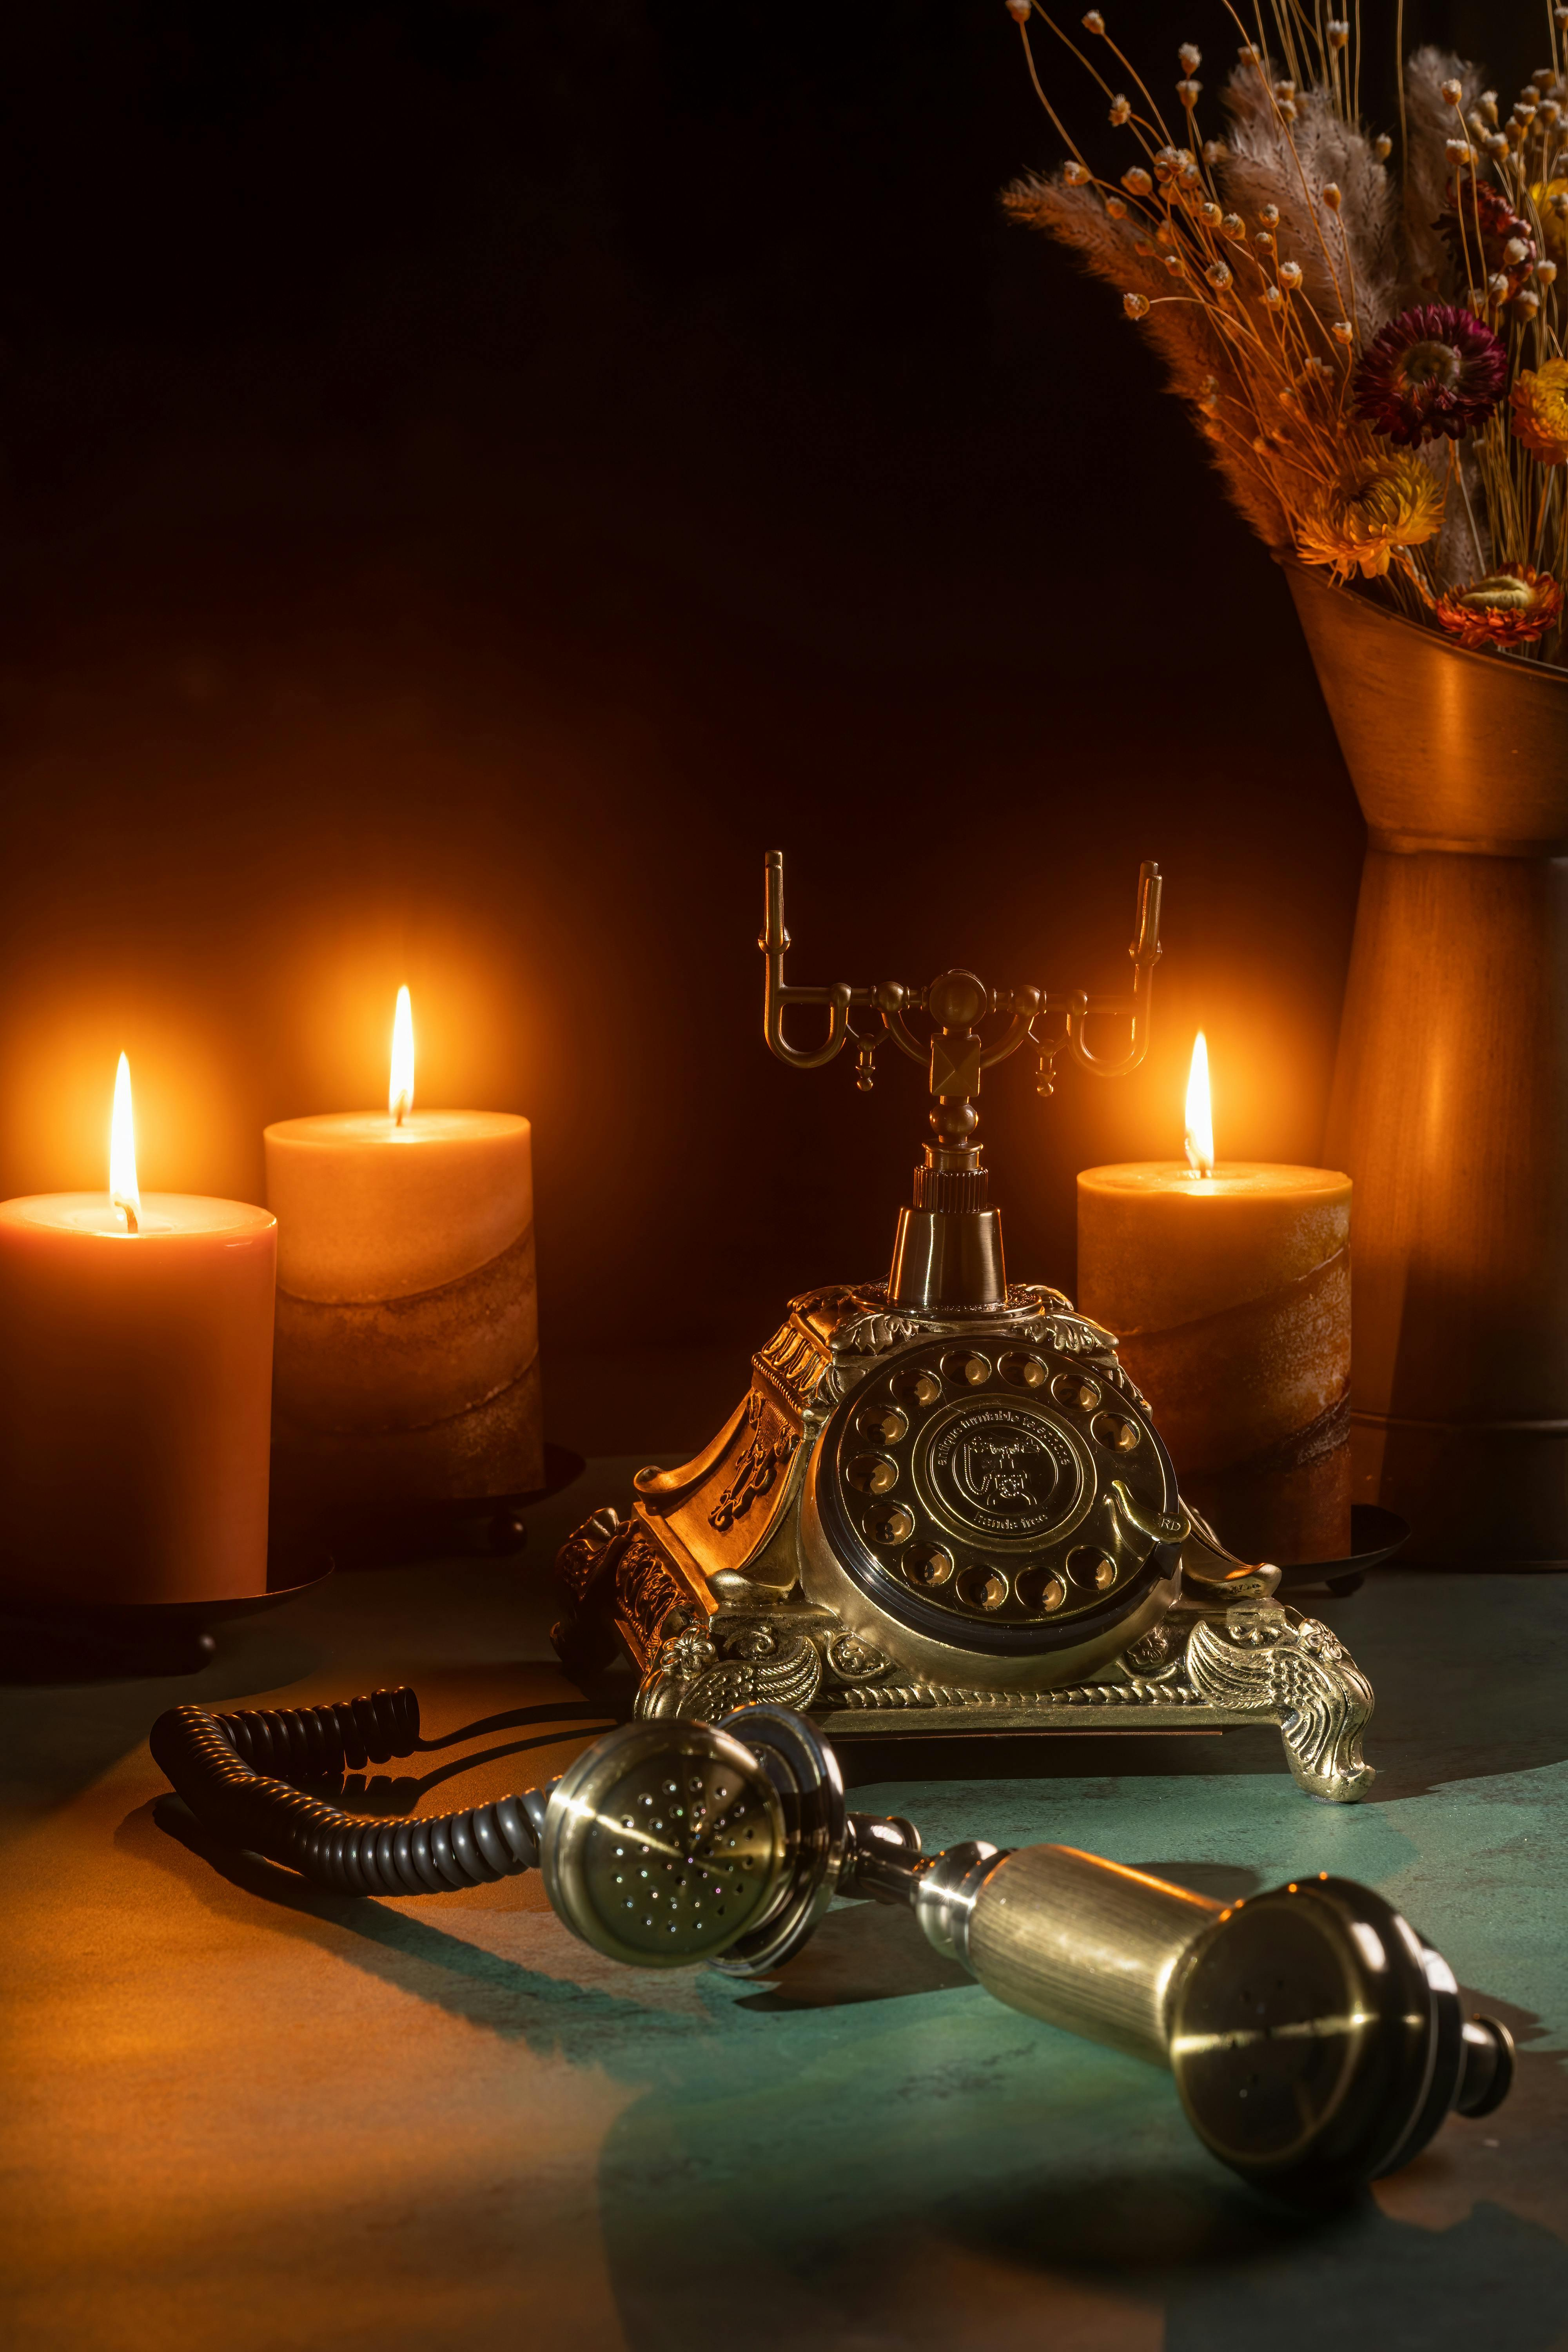Fire: (40, 1043, 191, 1221), (338, 976, 469, 1118), (1141, 1020, 1260, 1174)
